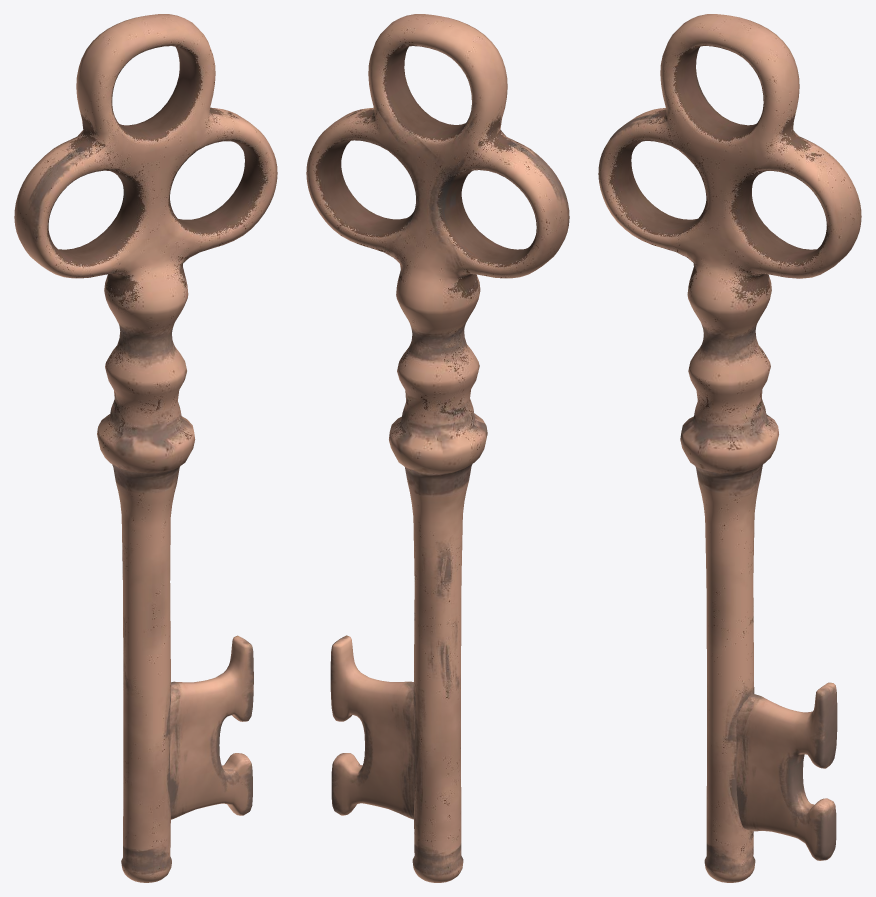
File: key_copper.glb
The picture shows the model from 3 angles, left to right: view 1: azimuth 30°, elevation 25°; view 2: azimuth 150°, elevation 25°; view 3: azimuth 330°, elevation 25°; orthographic projection.
Parts seen in each view (by area): view 1: Object_2; view 2: Object_2; view 3: Object_2.
Part boxes in pixels (x1,y1,x2,y2): Object_2: (14,14,277,882); Object_2: (306,14,569,882); Object_2: (598,14,861,882).
Size of the model in its own units: 520 by 1729 by 192.
Materials: 1 (1 with a texture image).
